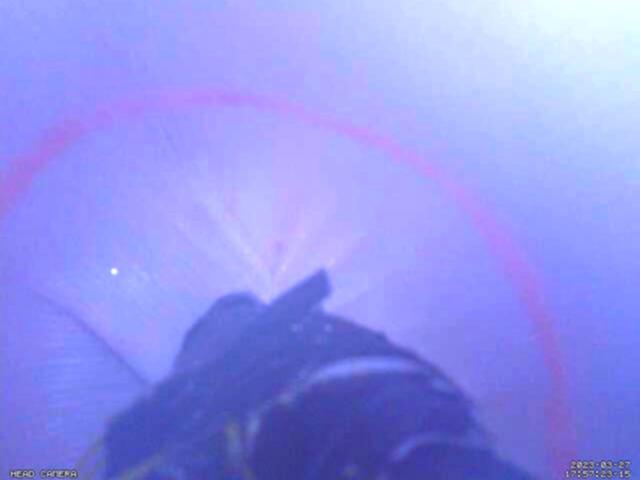head: (0, 88, 578, 480)
